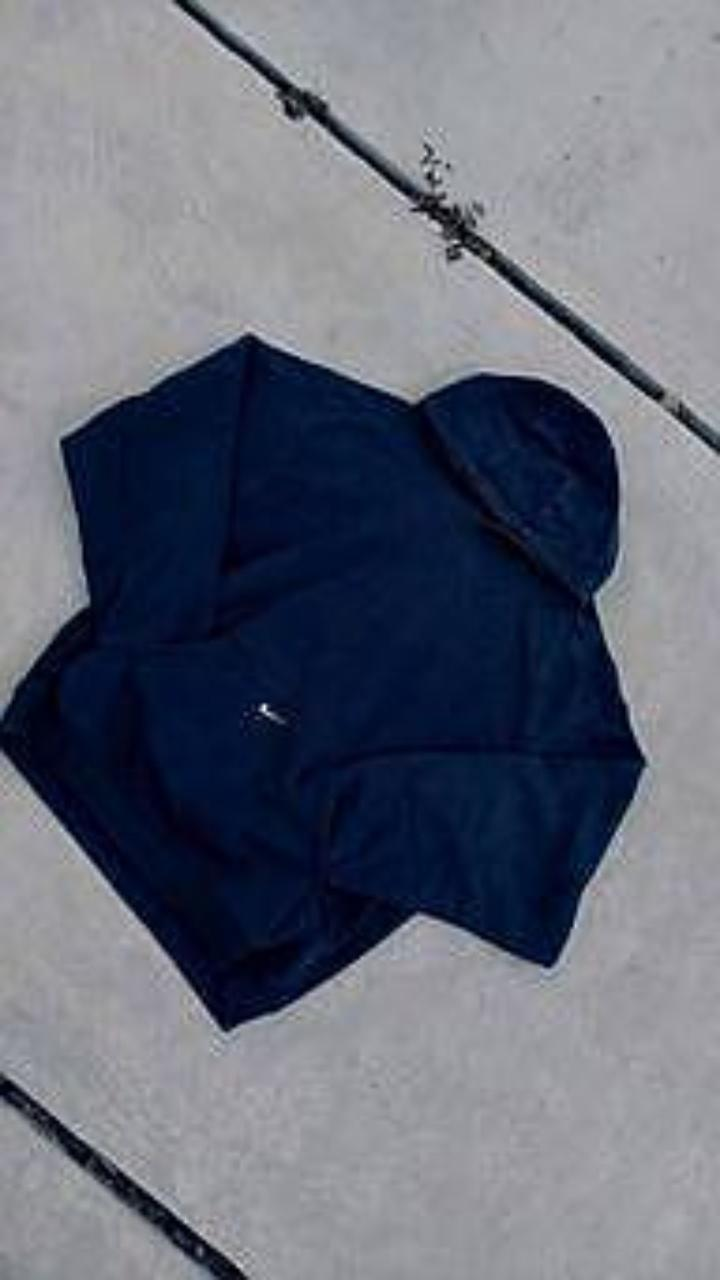Coat: (0, 331, 646, 1028)
